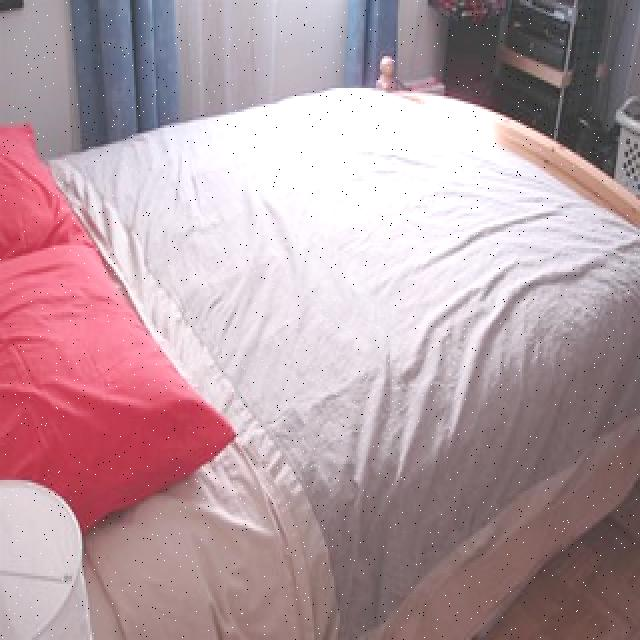bed: (0, 80, 636, 637)
